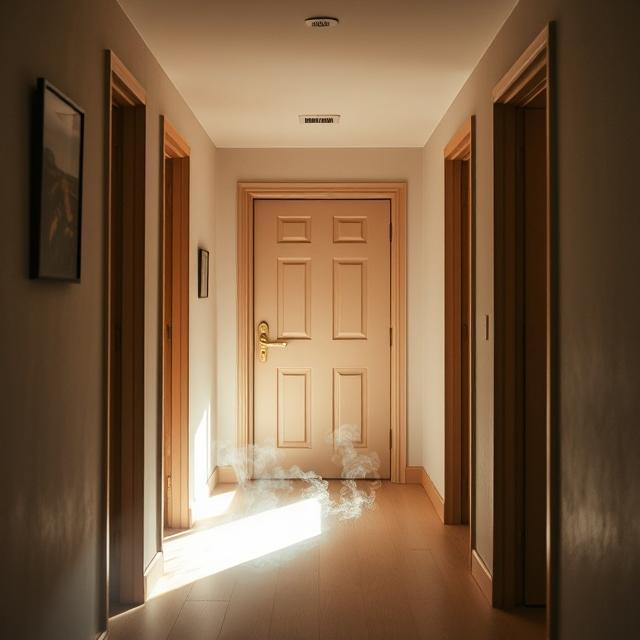fire: (202, 426, 382, 556)
